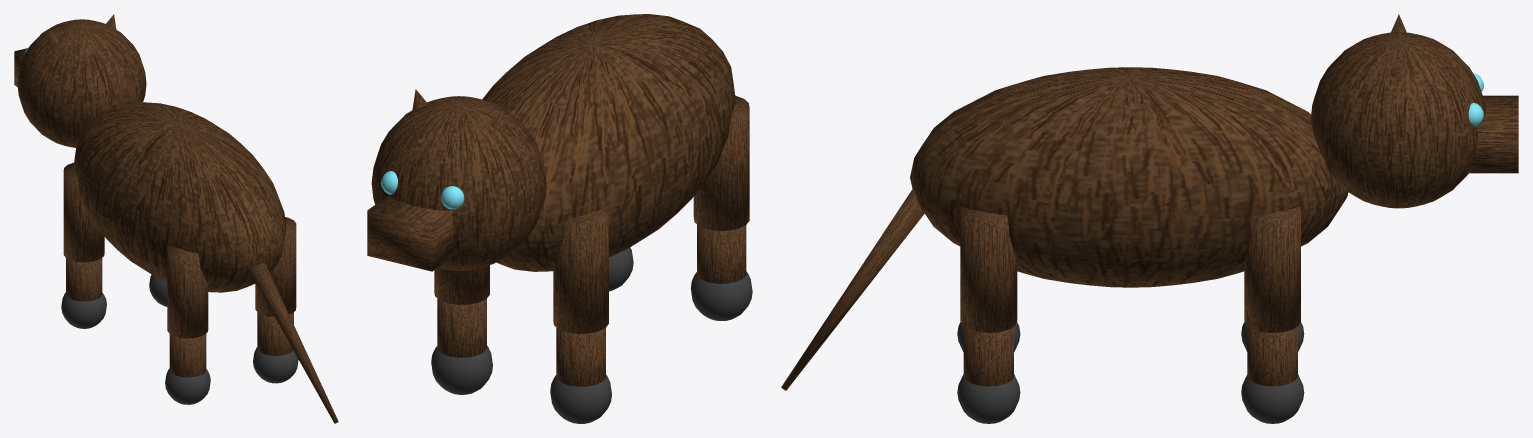
File: plague-bearer.glb
The picture shows the model from 3 angles, left to right: view 1: azimuth 30°, elevation 25°; view 2: azimuth 150°, elevation 25°; view 3: azimuth 270°, elevation 25°; orthographic projection. The views are drawn at different scales.
Parts seen in each view (by area): view 1: Body, Head, LegUpper, LegUpper.001, Tail, LegUpper.002, LegLower, LegLower.001, Paw, Paw.001, Paw.002, LegLower.002 (+1 smaller); view 2: Body, Head, LegUpper.001, Snout, LegUpper, LegLower.001, LegLower.003, LegLower, Paw.001, Paw.003, Paw, LegUpper.003 (+2 smaller); view 3: Body, Head, LegUpper.002, LegUpper.003, Tail, Snout, LegLower.002, LegLower.003, Paw.002, Paw.003.
Part boxes in pixels (x1,y1,x2,y2): Body: [73, 102, 286, 292]; Head: [17, 19, 146, 147]; LegUpper: [167, 244, 208, 338]; LegUpper.001: [63, 162, 104, 262]; Tail: [250, 263, 338, 423]; LegUpper.002: [255, 217, 296, 316]; LegLower: [169, 334, 206, 377]; LegLower.001: [66, 258, 102, 301]; Paw: [165, 368, 210, 404]; Paw.001: [61, 292, 106, 328]; Paw.002: [253, 347, 298, 383]; LegLower.002: [257, 312, 293, 355]; Body: [482, 14, 735, 271]; Head: [371, 96, 546, 270]; LegUpper.001: [553, 207, 608, 333]; Snout: [367, 195, 457, 271]; LegUpper: [693, 95, 749, 230]; LegLower.001: [556, 327, 605, 386]; LegLower.003: [437, 298, 486, 357]; LegLower: [697, 225, 746, 283]; Paw.001: [550, 375, 611, 423]; Paw.003: [431, 346, 492, 394]; Paw: [690, 271, 752, 320]; LegUpper.003: [434, 265, 489, 304]; Body: [910, 67, 1348, 287]; Head: [1310, 32, 1486, 208]; LegUpper.002: [960, 206, 1017, 332]; LegUpper.003: [1244, 206, 1300, 332]; Tail: [781, 189, 924, 390]; Snout: [1467, 95, 1518, 173]; LegLower.002: [963, 326, 1013, 386]; LegLower.003: [1247, 326, 1297, 386]; Paw.002: [957, 374, 1020, 423]; Paw.003: [1241, 374, 1304, 423].
Size of the model in its own units: 0.5535 by 0.986 by 1.85.
3 materials, 1 textured.
